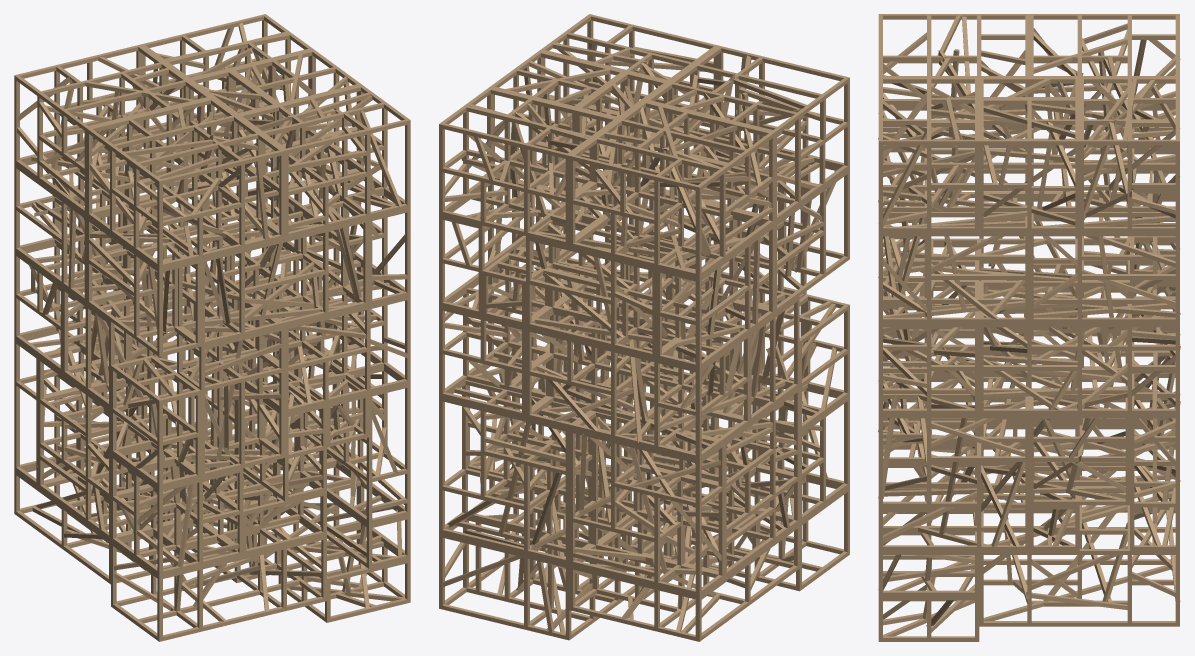
3 views of the same model, side by side, from view 1: azimuth 30°, elevation 25°; view 2: azimuth 150°, elevation 25°; view 3: azimuth 270°, elevation 25° (orthographic). The views are drawn at different scales.
Parts seen in each view (by area): view 1: project-caschlatsch-caschlatsch; view 2: project-caschlatsch-caschlatsch; view 3: project-caschlatsch-caschlatsch.
Boxes of the visible parts, x1,y1,x2,y2 form: project-caschlatsch-caschlatsch: [14, 14, 410, 641]; project-caschlatsch-caschlatsch: [439, 14, 849, 641]; project-caschlatsch-caschlatsch: [878, 14, 1180, 641].
Bounding box in the file's own units: 4.23 × 7.79 × 4.22.
